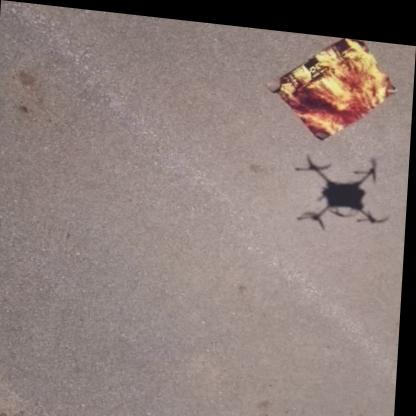fire-poster: (267, 24, 400, 140)
